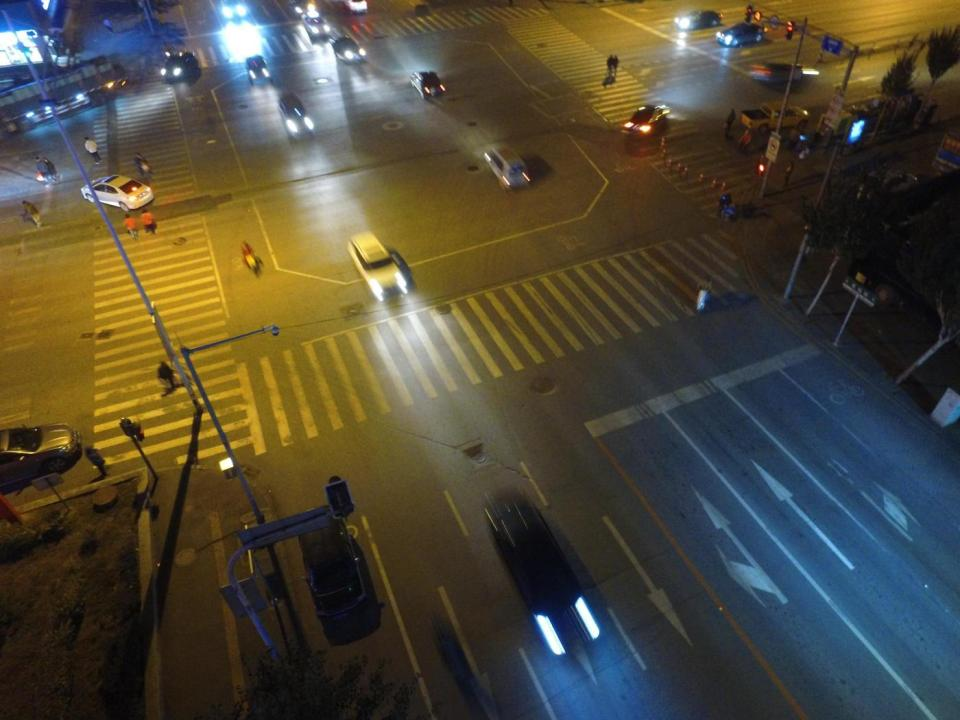bus: (930, 132, 960, 176)
car: (480, 492, 600, 655), (296, 510, 366, 619), (0, 423, 82, 486), (343, 232, 408, 300), (854, 168, 928, 205), (481, 146, 530, 191), (278, 95, 313, 142), (624, 104, 670, 139), (752, 58, 804, 85), (719, 22, 767, 47), (160, 52, 197, 84), (677, 8, 721, 32), (409, 71, 445, 100), (332, 35, 362, 64), (304, 12, 332, 38), (245, 55, 270, 84), (123, 214, 140, 242), (137, 152, 153, 179), (139, 209, 155, 235), (343, 0, 369, 16), (292, 0, 316, 16)
truck: (742, 99, 807, 130)
